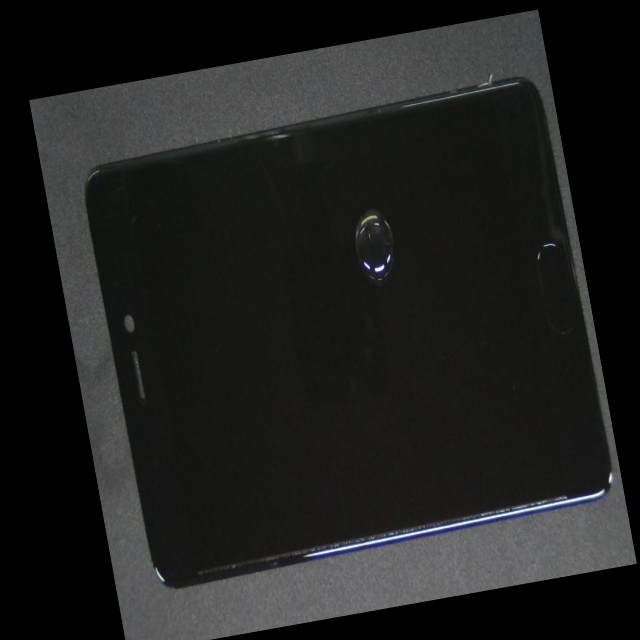oil: (201, 92, 526, 352)
